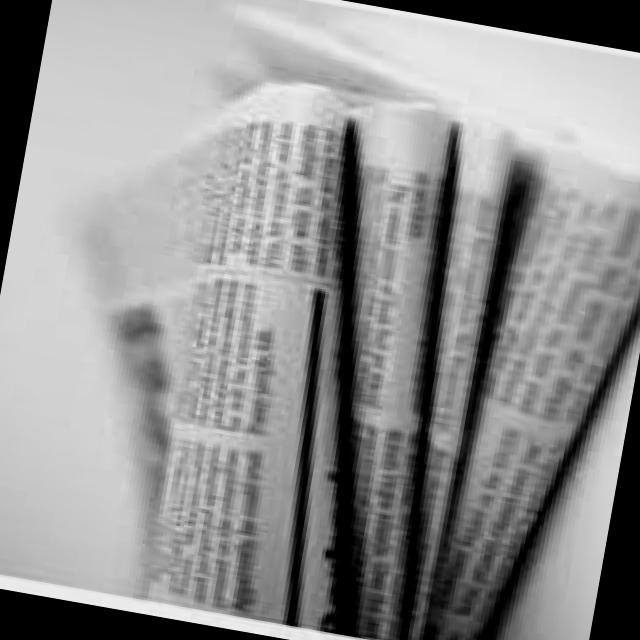paper: (109, 73, 640, 640)
